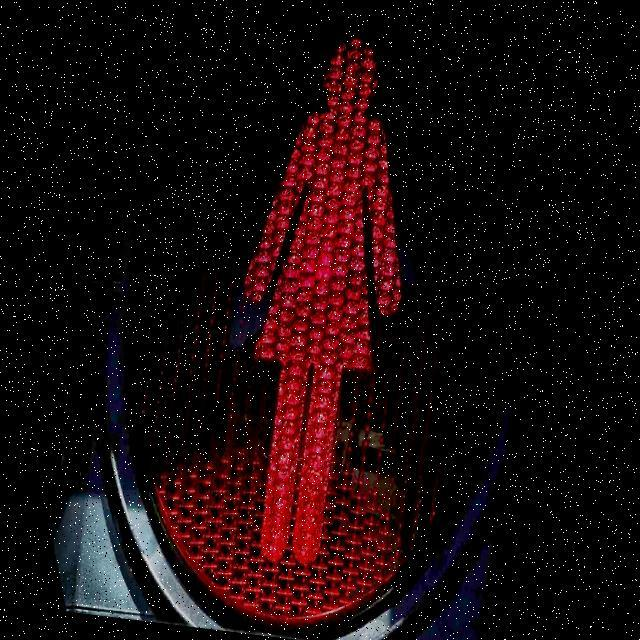red_light: (204, 8, 438, 584)
